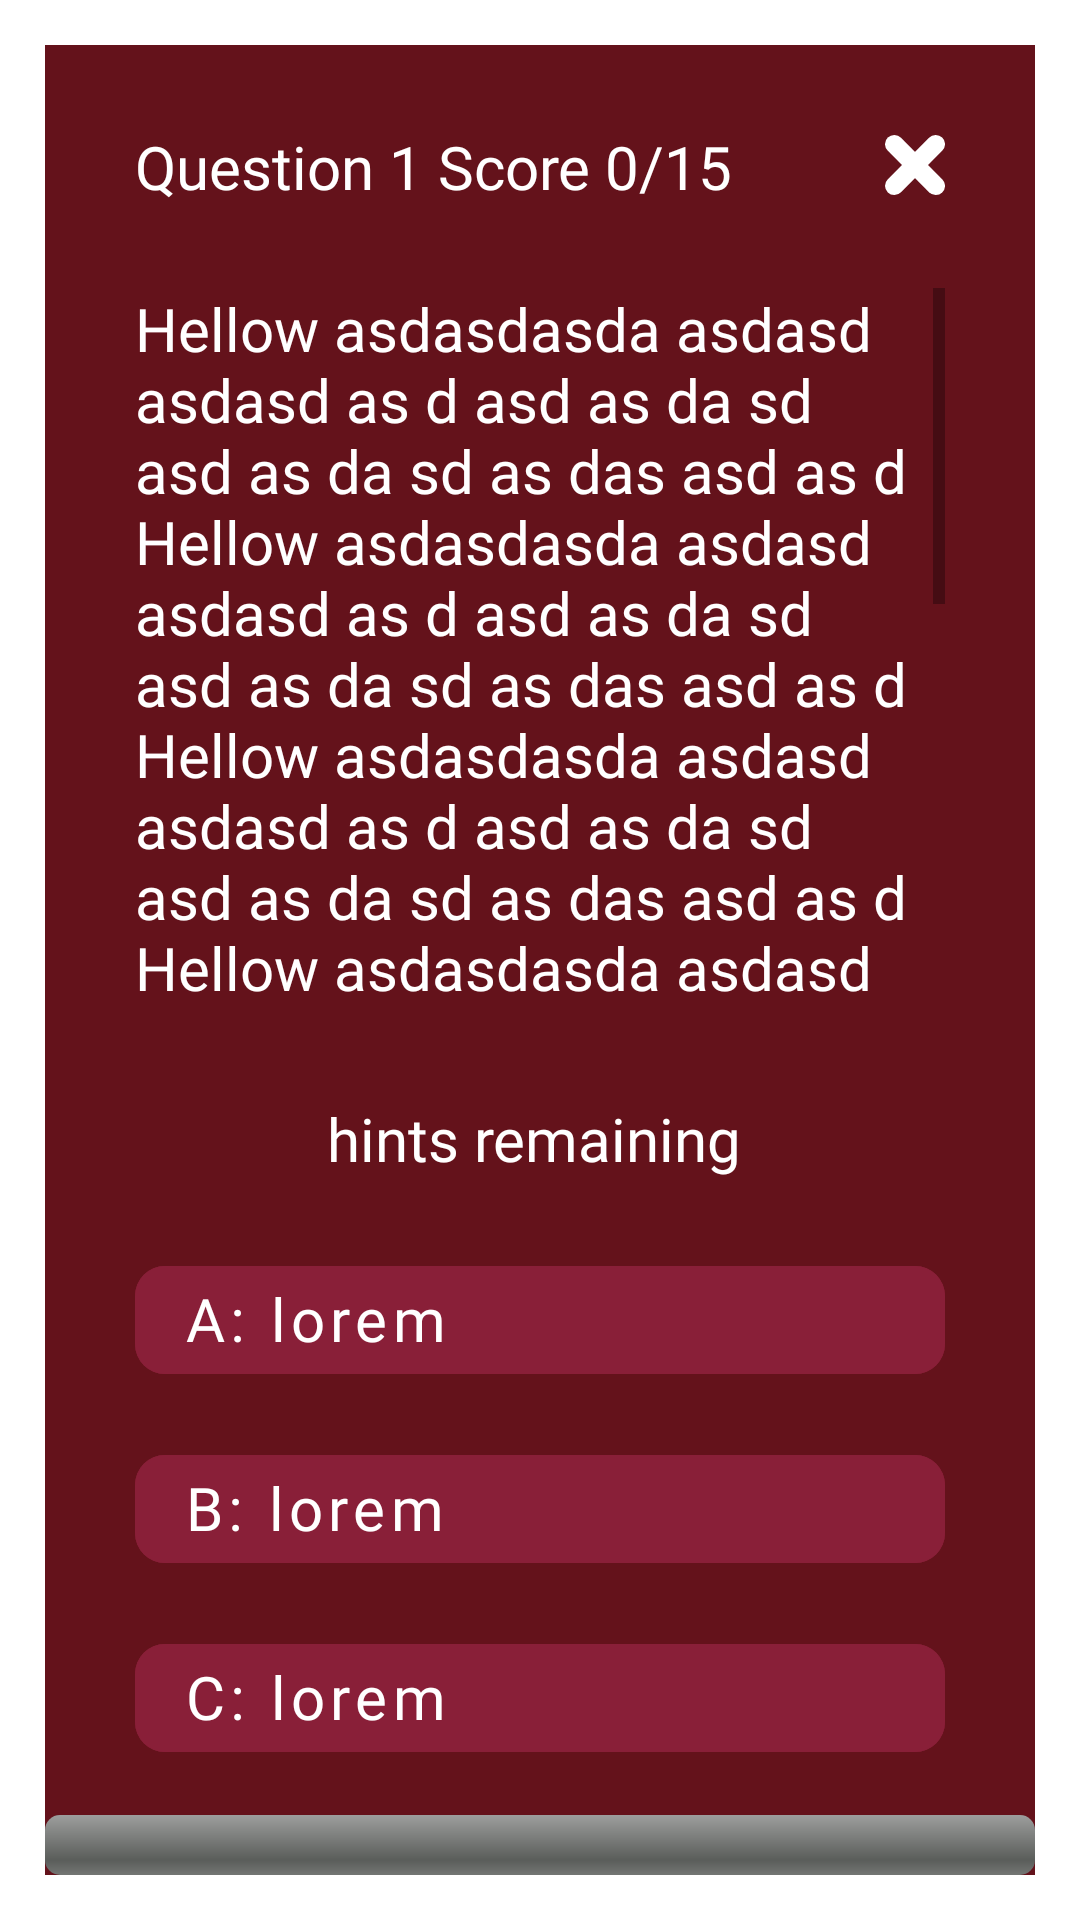

Screen size 1080x1920. Icon name, then its center in pixels as [x,y]:
close: [915,165]
